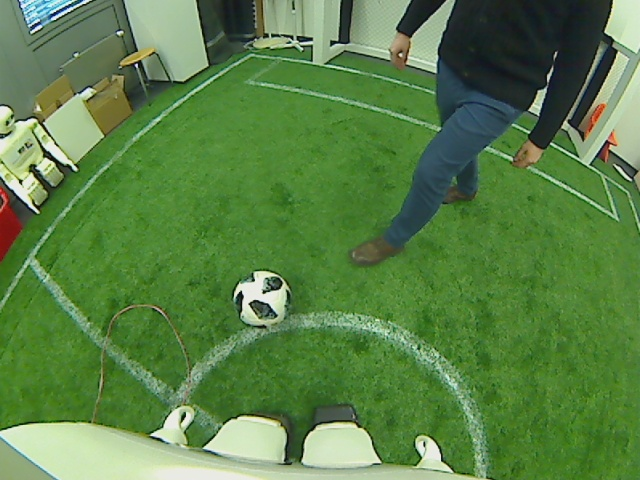ball: (230, 269, 292, 328)
